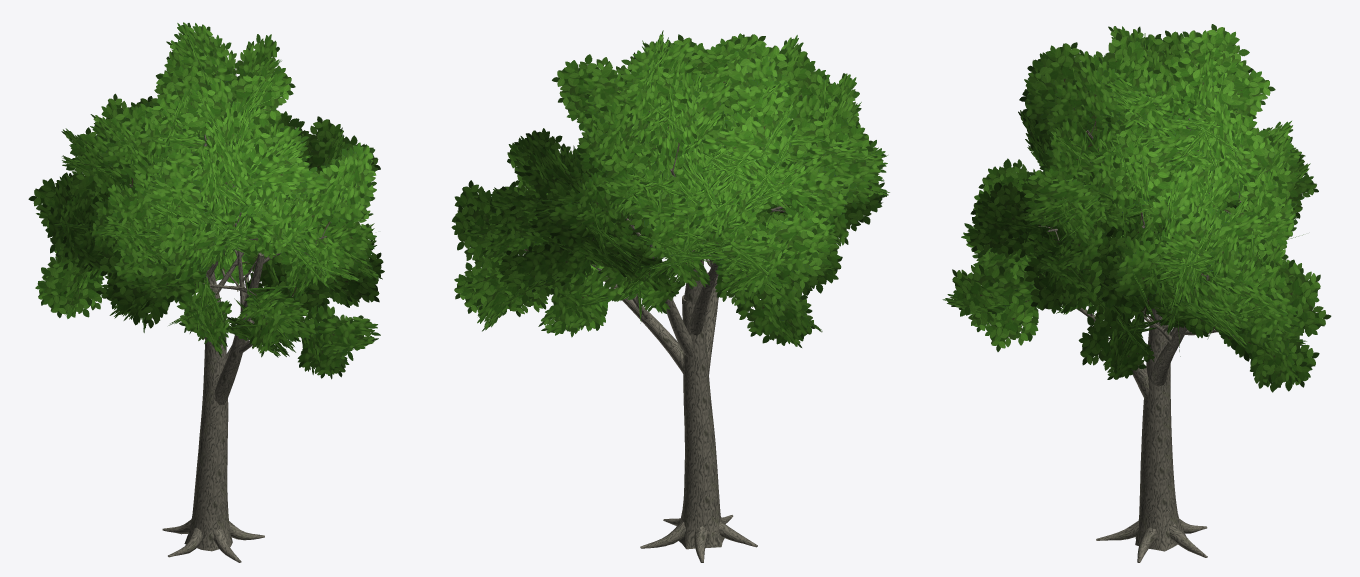
Rendered from shrine-grove-beech.glb.
3 renders of one model, left to right at view 1: azimuth 30°, elevation 25°; view 2: azimuth 150°, elevation 25°; view 3: azimuth 270°, elevation 25°, orthographic. The views are drawn at different scales.
Visible parts, largest first — view 1: Leaves, Trunk; view 2: Leaves, Trunk; view 3: Leaves, Trunk.
Part boxes in pixels (x1,y1,x2,y2): Leaves: [28, 22, 384, 379]; Trunk: [129, 134, 329, 562]; Leaves: [451, 30, 889, 347]; Trunk: [524, 143, 786, 562]; Leaves: [942, 24, 1331, 392]; Trunk: [1026, 118, 1241, 562].
Size of the model in its own units: 9.39 by 13.18 by 9.37.
Materials: 2 (2 with a texture image).
